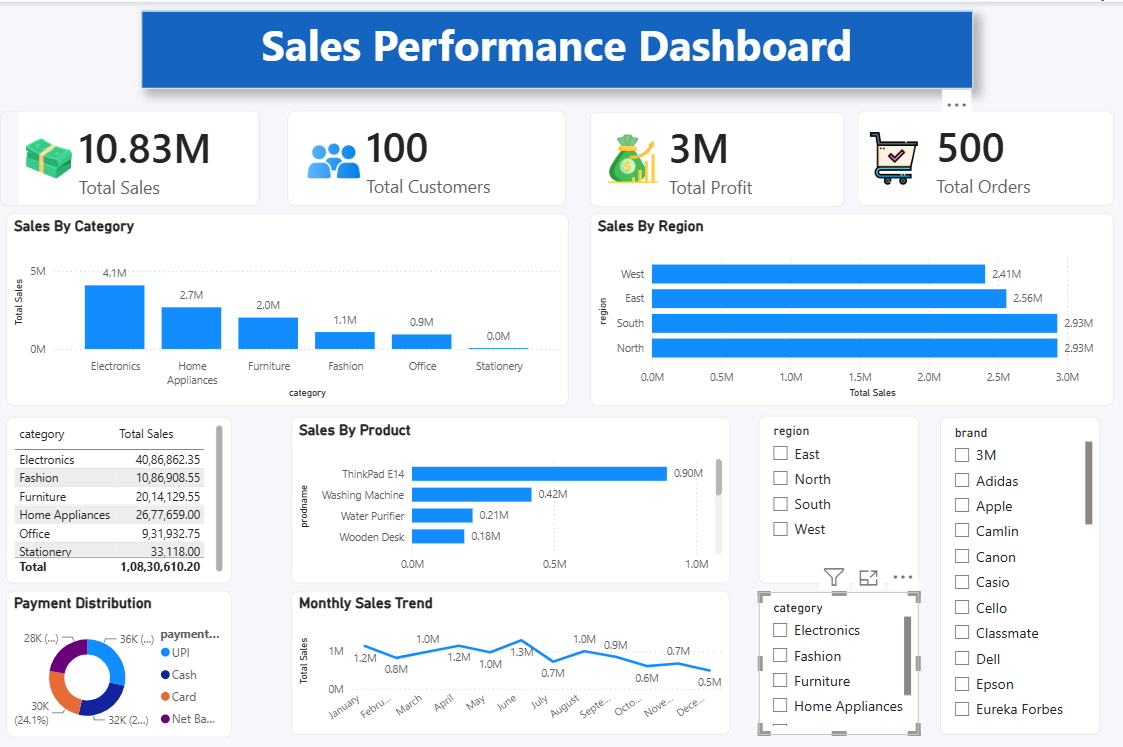

This screenshot's page, from the dashboard's own definition file:
{"tool":"powerbi","page":{"name":"Page 1","canvas":[1280,850],"ordinal":0},"visuals":[{"type":"cardVisual","fields":{"Data":["salesbi sales_dashboard_data.Total Sales"]},"box":[0,123.9,295.9,108.3],"z":0},{"type":"cardVisual","fields":{"Data":["salesbi sales_dashboard_data.Total Orders"]},"box":[977,123.9,292.3,107.6],"z":1000},{"type":"cardVisual","fields":{"Data":["salesbi sales_dashboard_data.Total Customers"]},"box":[327.7,124.2,316.7,107.6],"z":2000},{"type":"cardVisual","fields":{"Data":["salesbi sales_dashboard_data.Total Profit"]},"box":[672.5,124.7,289.8,107.6],"z":3000},{"type":"clusteredColumnChart","title":"Sales By Category","fields":{"Category":["salesbi sales_dashboard_data.category"],"Y":["salesbi sales_dashboard_data.Total Sales"]},"box":[7.2,241.1,641,219.4],"z":4000},{"type":"tableEx","fields":{"Values":["salesbi sales_dashboard_data.category","salesbi sales_dashboard_data.Total Sales"]},"box":[7.3,473.2,256.8,189.5],"z":5000},{"type":"clusteredBarChart","title":"Sales By Region","fields":{"Category":["salesbi sales_dashboard_data.region"],"Y":["salesbi sales_dashboard_data.Total Sales"]},"box":[672.3,240.7,596.8,219.3],"z":6000},{"type":"lineChart","title":"Monthly Sales Trend","fields":{"Category":["salesbi sales_dashboard_data.Month"],"Y":["salesbi sales_dashboard_data.Total Sales"]},"box":[331.4,671.3,500.1,163.9],"z":7000},{"type":"donutChart","title":"Payment Distribution","fields":{"Category":["salesbi sales_dashboard_data.paymentmode"],"Y":["Sum(salesbi sales_dashboard_data.orderid)"]},"box":[7.3,671.3,256.8,167.5],"z":8000},{"type":"clusteredBarChart","title":"Sales By Product","fields":{"Category":["salesbi sales_dashboard_data.prodname"],"Y":["salesbi sales_dashboard_data.Total Sales"]},"box":[331.4,473.2,500.1,189.5],"z":9000},{"type":"textbox","box":[160.9,10,947.1,88.3],"z":11000},{"type":"image","box":[25.6,141,60,75],"z":12000},{"type":"image","box":[350.4,143.9,60,75],"z":13000},{"type":"image","box":[690.8,141,60,75],"z":14000},{"type":"image","box":[988.4,141,60,75],"z":15000},{"type":"slicer","fields":{"Values":["salesbi sales_dashboard_data.region"]},"box":[864.5,471.4,182.3,190.9],"z":15001},{"type":"slicer","fields":{"Values":["salesbi sales_dashboard_data.category"]},"box":[864.5,672.3,182.3,162.4],"z":15002},{"type":"slicer","fields":{"Values":["salesbi sales_dashboard_data.brand"]},"box":[1071.1,472.9,182.3,361.8],"z":15003}]}

Visuals, with their boxes in screenshot pixels (x1, y1, x2, y2), scaled from the page's 1280x850 canvas onto the 1123x747 screenshot:
cardVisual - salesbi sales_dashboard_data.Total Sales: 0:109:260:204
cardVisual - salesbi sales_dashboard_data.Total Orders: 857:109:1114:203
cardVisual - salesbi sales_dashboard_data.Total Customers: 288:109:565:204
cardVisual - salesbi sales_dashboard_data.Total Profit: 590:110:844:204
"Sales By Category" clusteredColumnChart: 6:212:569:405
tableEx - salesbi sales_dashboard_data.category x salesbi sales_dashboard_data.Total Sales: 6:416:232:582
"Sales By Region" clusteredBarChart: 590:212:1113:404
"Monthly Sales Trend" lineChart: 291:590:730:734
"Payment Distribution" donutChart: 6:590:232:737
"Sales By Product" clusteredBarChart: 291:416:730:582
textbox: 141:9:972:86
image: 22:124:75:190
image: 307:126:360:192
image: 606:124:659:190
image: 867:124:920:190
slicer - salesbi sales_dashboard_data.region: 758:414:918:582
slicer - salesbi sales_dashboard_data.category: 758:591:918:734
slicer - salesbi sales_dashboard_data.brand: 940:416:1100:734
